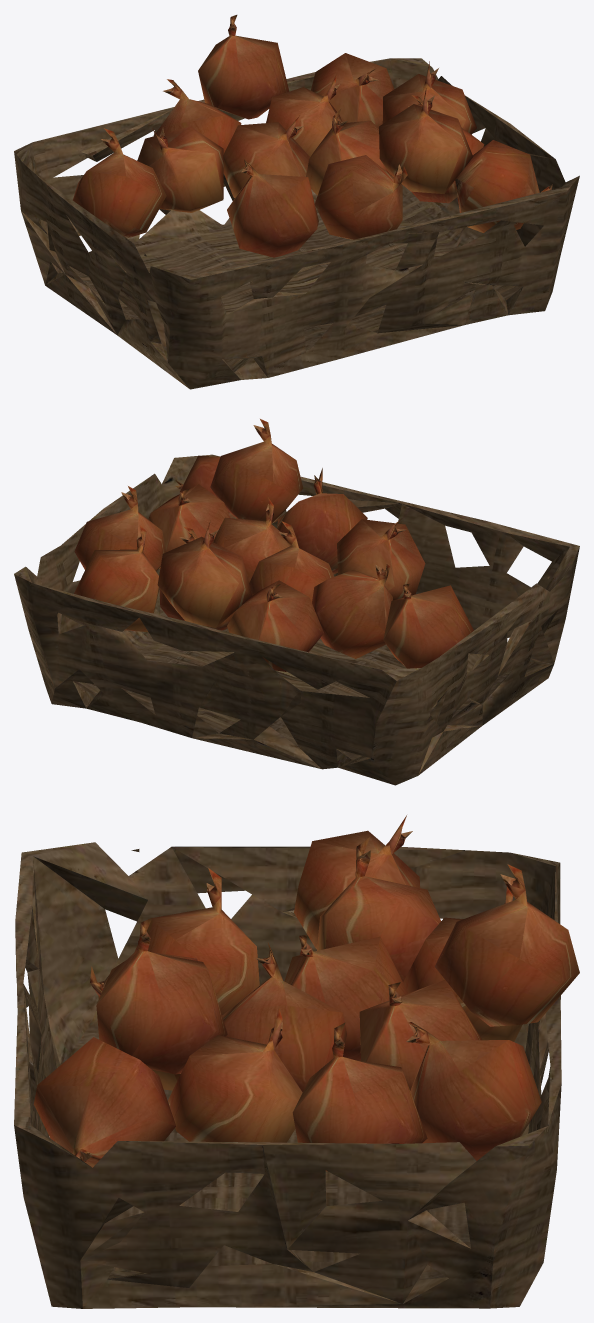
File: OnionBasket.glb
The picture shows the model from 3 angles, top to bottom: view 1: azimuth 30°, elevation 25°; view 2: azimuth 150°, elevation 25°; view 3: azimuth 270°, elevation 25°; orthographic projection. The views are drawn at different scales.
Parts seen in each view (by area): view 1: OnionBasket; view 2: OnionBasket; view 3: OnionBasket.
Boxes of the visible parts, x1,y1,x2,y2 form: OnionBasket: [14, 15, 579, 389]; OnionBasket: [14, 419, 579, 785]; OnionBasket: [14, 815, 579, 1308].
Size of the model in its own units: 0.3737 by 0.1896 by 0.2941.
Materials: 2 (2 with a texture image).
